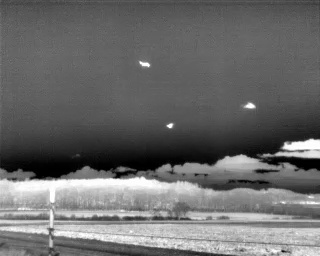DRONE: (136, 57, 154, 71)
